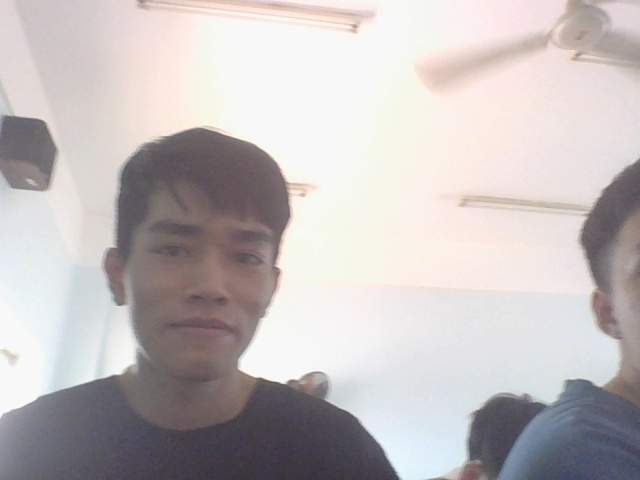real: (101, 115, 297, 393)
